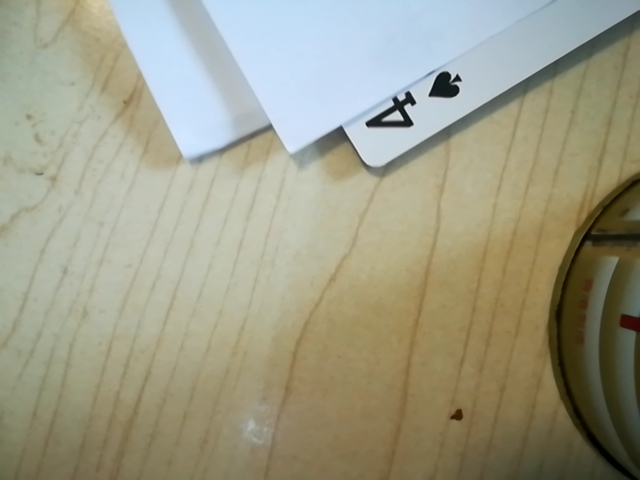ht 4: (348, 60, 477, 152)
